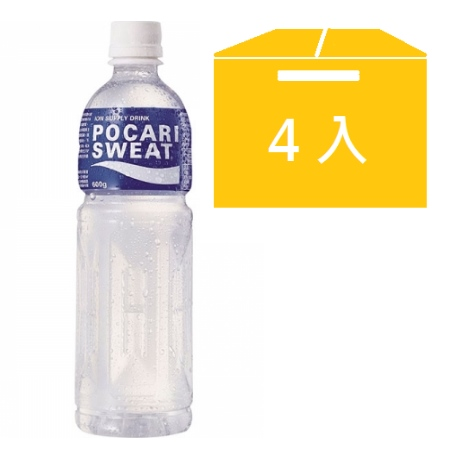POCARI SWEAT: (64, 14, 200, 440)
